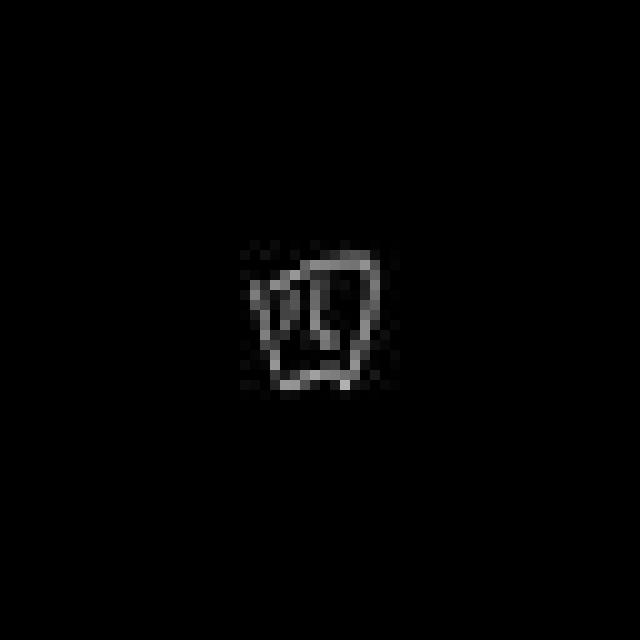4 -four-: (233, 241, 394, 402)
